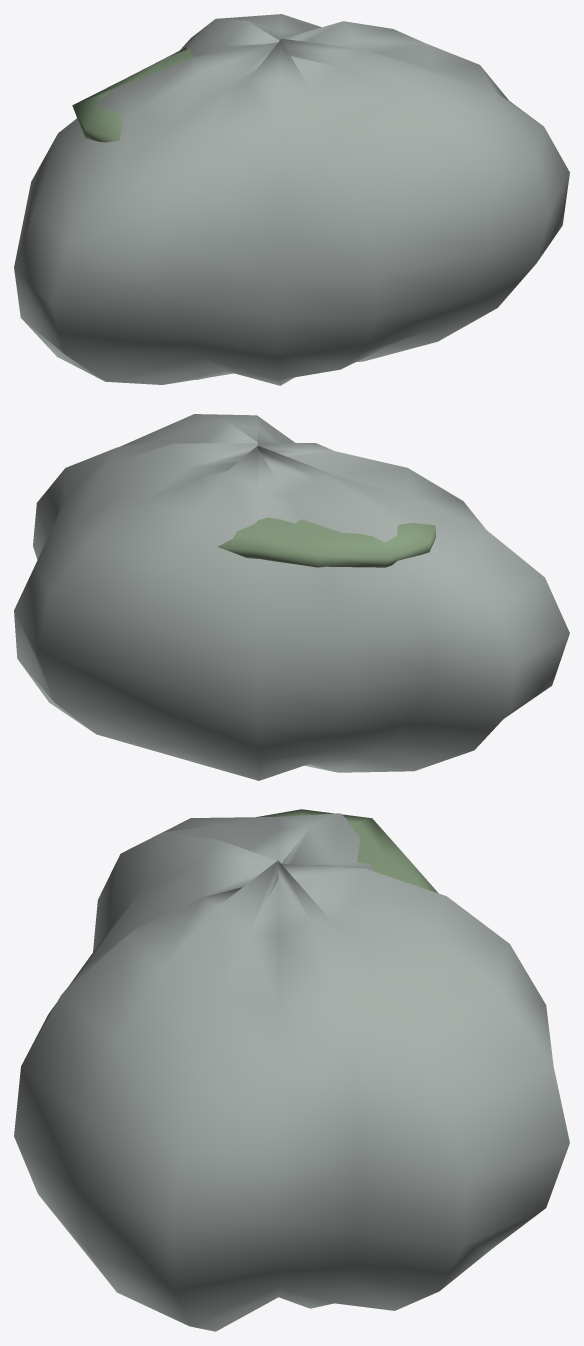
Rendered from SM_Rock_01_UV_0135.fbx.
The picture shows the model from 3 angles, top to bottom: view 1: azimuth 30°, elevation 25°; view 2: azimuth 150°, elevation 25°; view 3: azimuth 270°, elevation 25°; orthographic projection. The views are drawn at different scales.
Visible parts, largest first — view 1: SM_Rock_01_UV_0135; view 2: SM_Rock_01_UV_0135; view 3: SM_Rock_01_UV_0135.
Boxes of the visible parts, <box> form: SM_Rock_01_UV_0135: <box>14,14,569,385</box>; SM_Rock_01_UV_0135: <box>14,414,569,780</box>; SM_Rock_01_UV_0135: <box>14,809,569,1331</box>.
Bounding box in the file's own units: 366 × 262 × 219.
